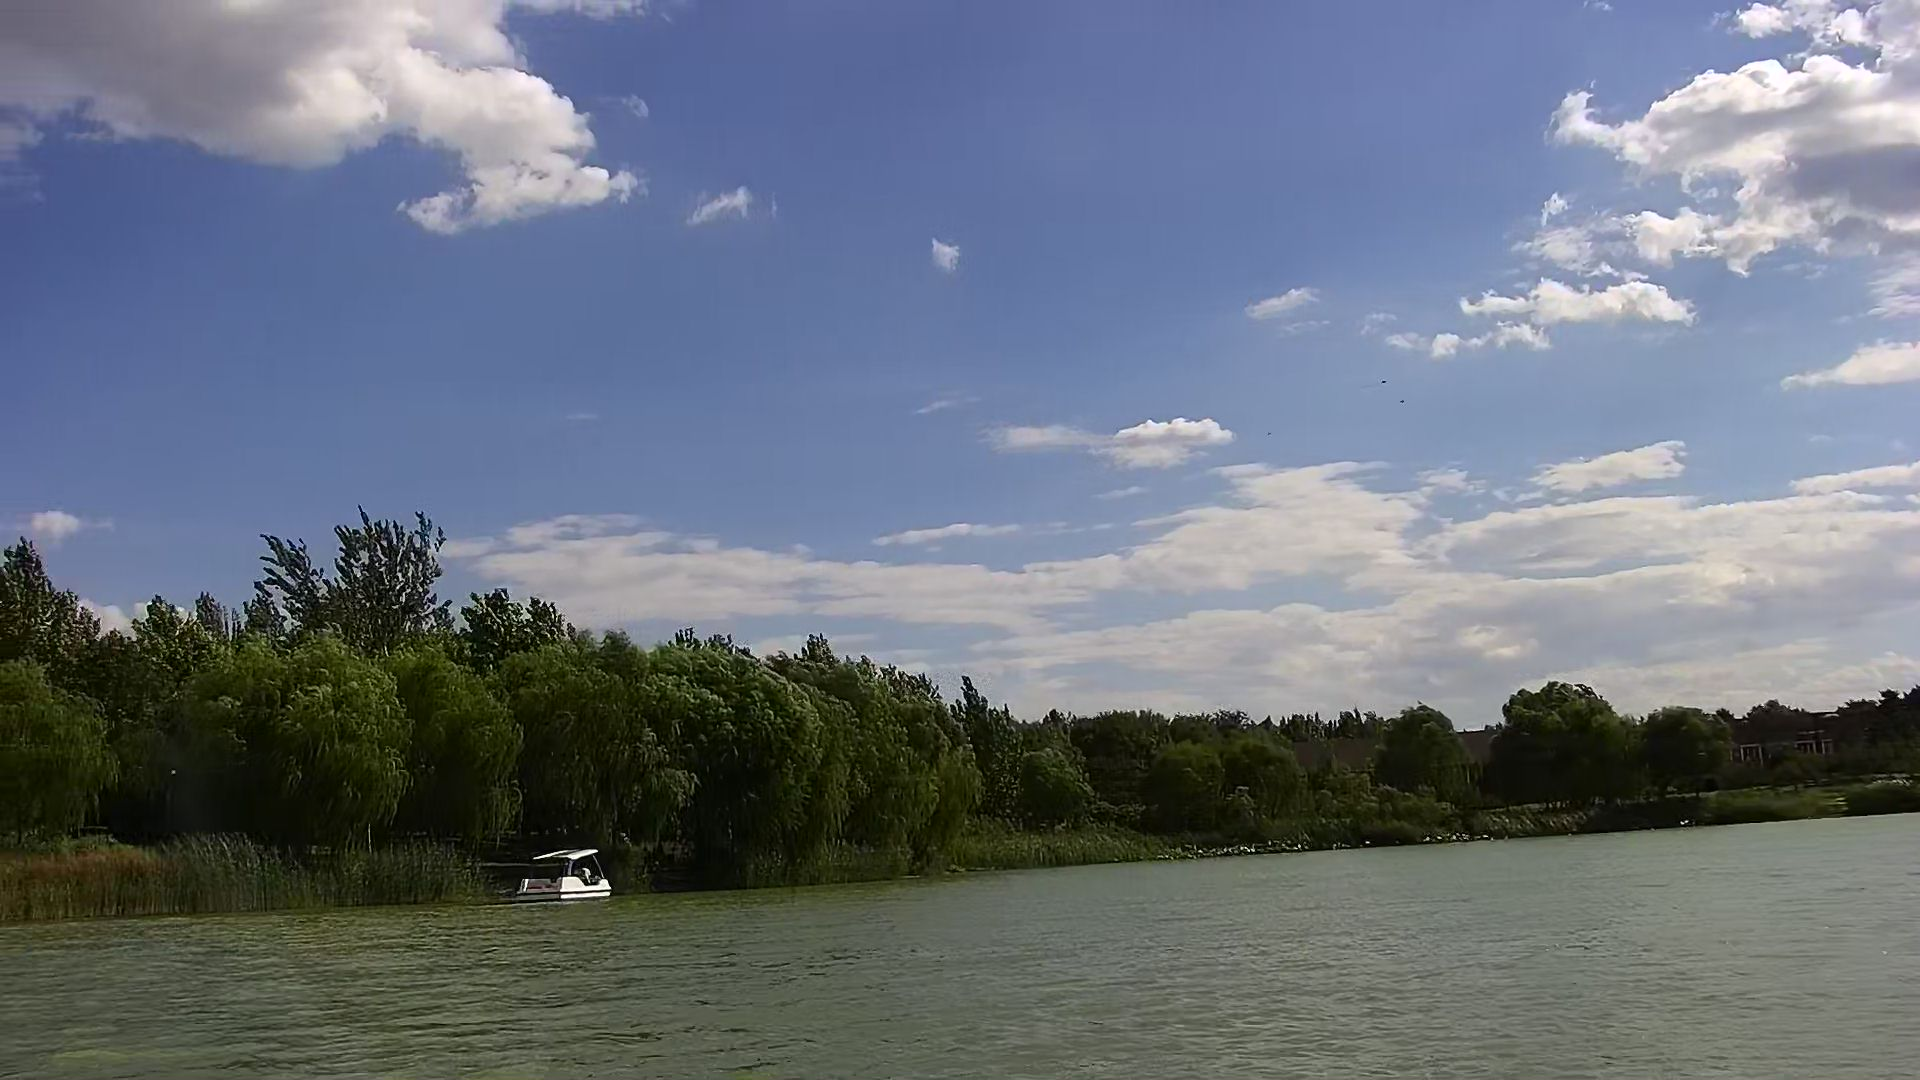boat: (518, 848, 615, 903)
